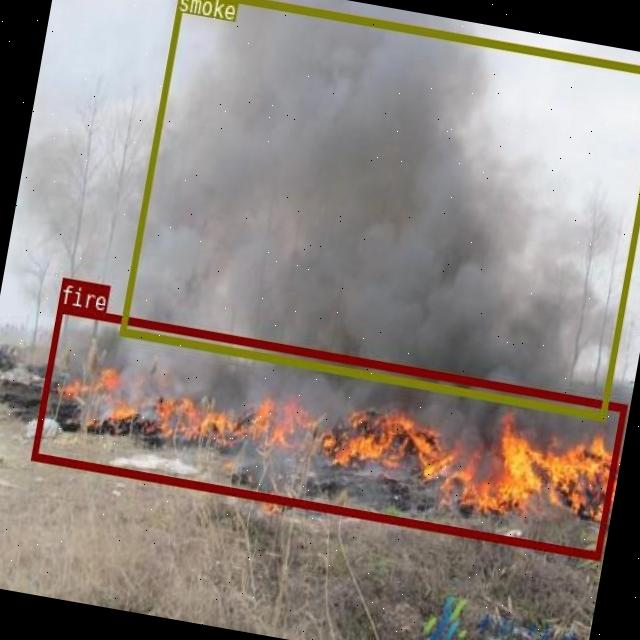fire: (30, 303, 626, 558)
smoke: (117, 0, 640, 418)
